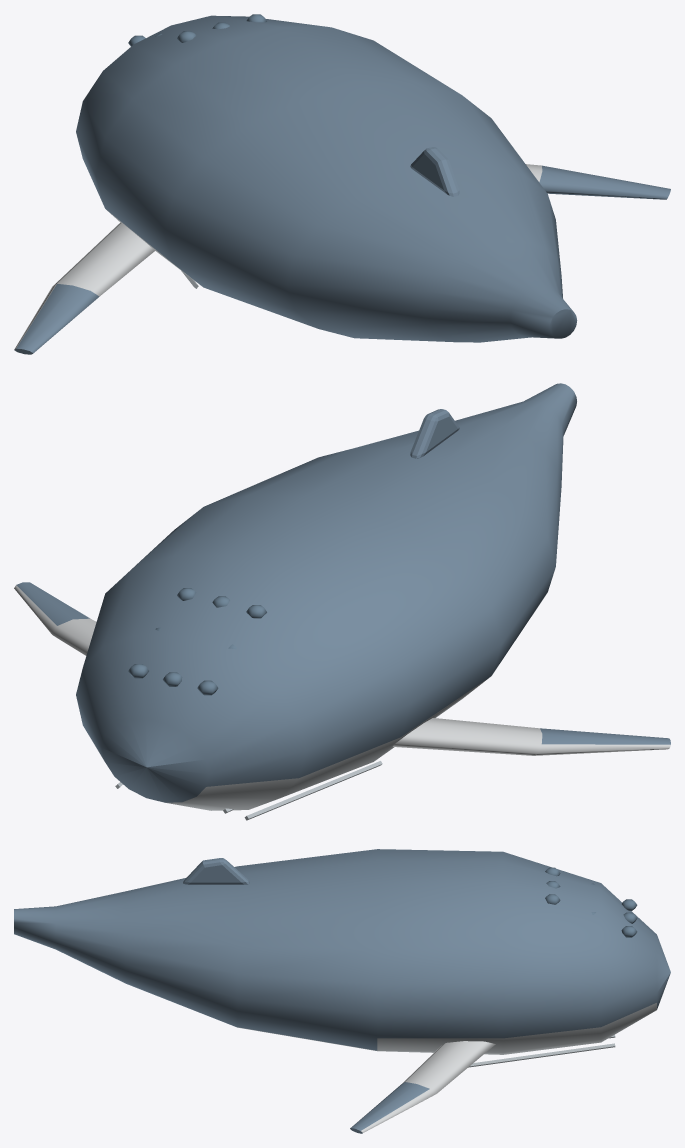
The model's file is whale.glb.
3 views of the same model, one above another, from view 1: azimuth 30°, elevation 25°; view 2: azimuth 150°, elevation 25°; view 3: azimuth 270°, elevation 25° (orthographic). The views are drawn at different scales.
Visible parts, largest first — view 1: whale; view 2: whale; view 3: whale.
Part boxes in pixels (box(x1,y1,x2,y2)): whale: box(14, 14, 670, 354); whale: box(14, 383, 670, 820); whale: box(14, 849, 670, 1133).
Size of the model in its own units: 8.54 by 2.78 by 9.4.
